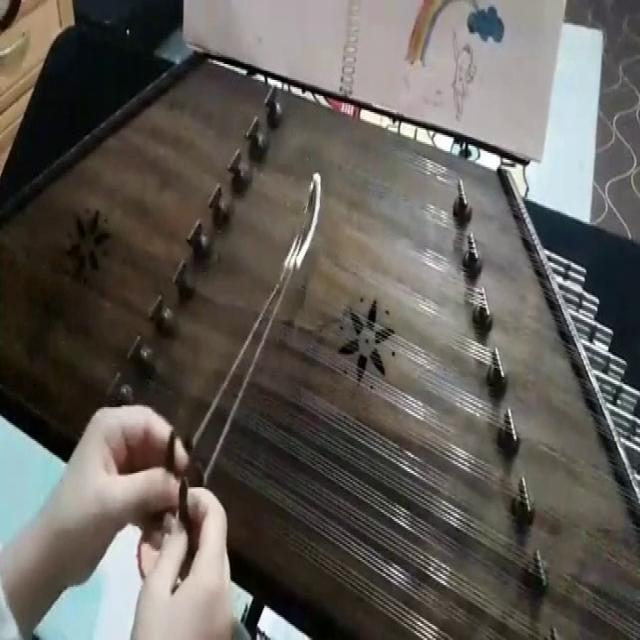Santur: (0, 30, 640, 640)
